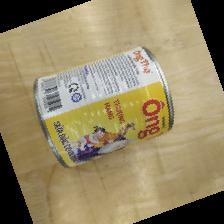Ong_tho: (34, 46, 176, 169)
